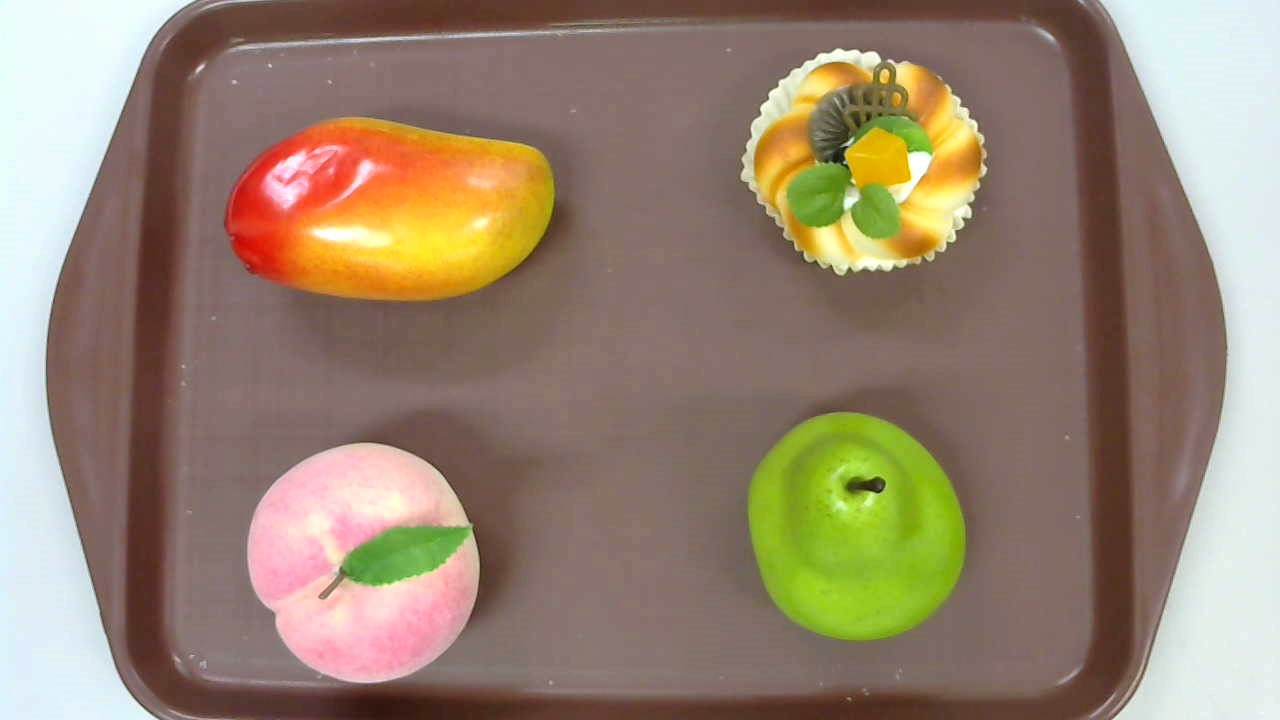fruit tart: (740, 48, 988, 278)
green pear: (746, 412, 966, 641)
peach: (246, 442, 479, 682)
red mango: (225, 115, 555, 304)
